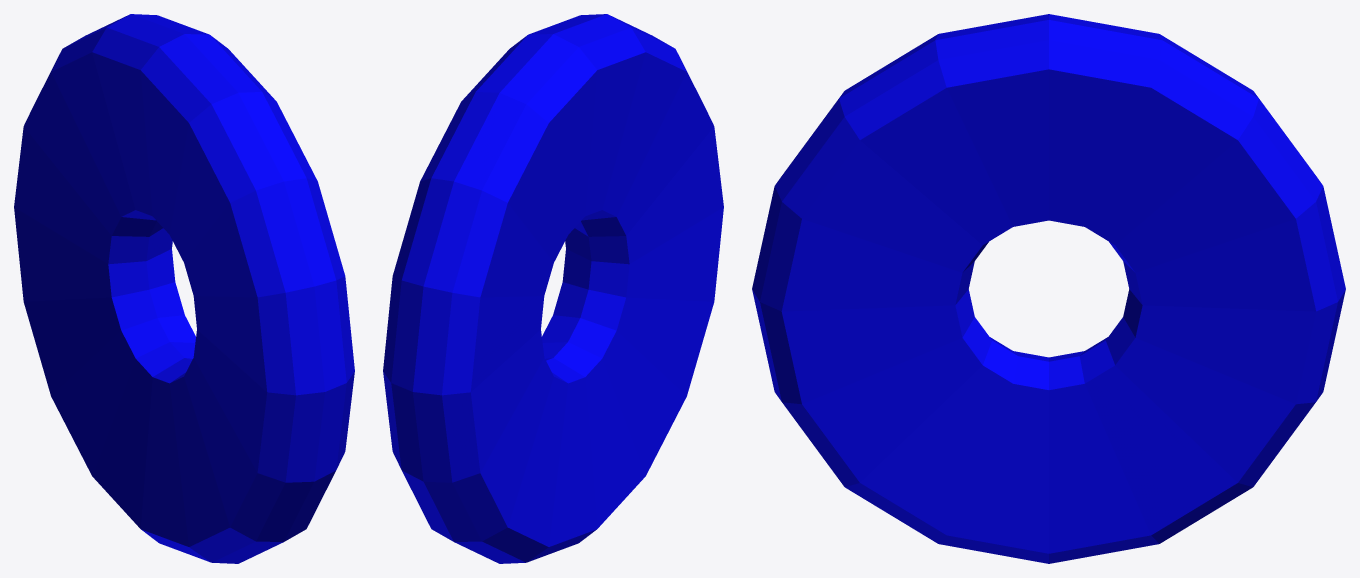
Rendered from Rueda.glb.
The picture shows the model from 3 angles, left to right: view 1: azimuth 30°, elevation 25°; view 2: azimuth 150°, elevation 25°; view 3: azimuth 270°, elevation 25°; orthographic projection. The views are drawn at different scales.
Parts seen in each view (by area): view 1: Rueda; view 2: Rueda; view 3: Rueda.
Boxes of the visible parts, <box> form: Rueda: <box>14,14,354,563</box>; Rueda: <box>383,14,723,563</box>; Rueda: <box>752,14,1345,563</box>.
Bounding box in the file's own units: 0.1299 × 0.7215 × 0.7215.
